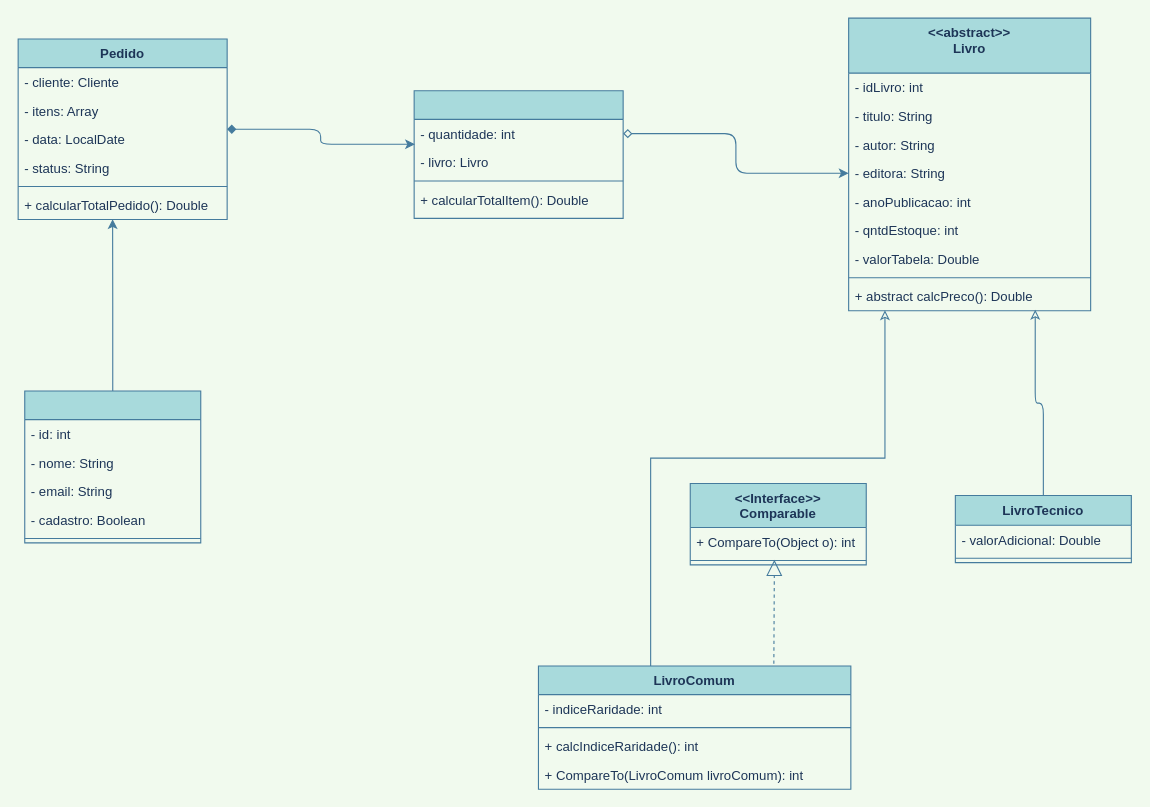
Image size: 1150x807. Some labels were removed from this diagram. Each missing label, with the box of its shape:
Cliente: (24, 390, 201, 543)
ItemPedido: (413, 90, 623, 218)
